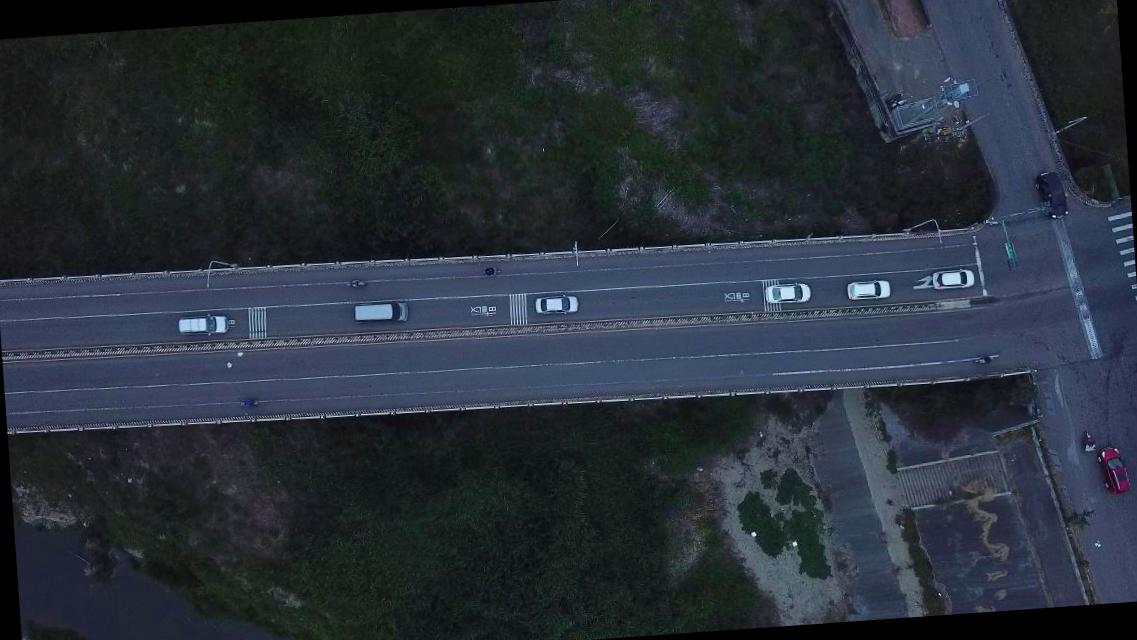vehicle: (1034, 168, 1070, 222), (1096, 444, 1131, 496), (176, 308, 232, 338), (352, 298, 410, 325), (762, 279, 812, 307), (846, 276, 891, 304), (534, 292, 578, 316), (930, 268, 974, 288)
